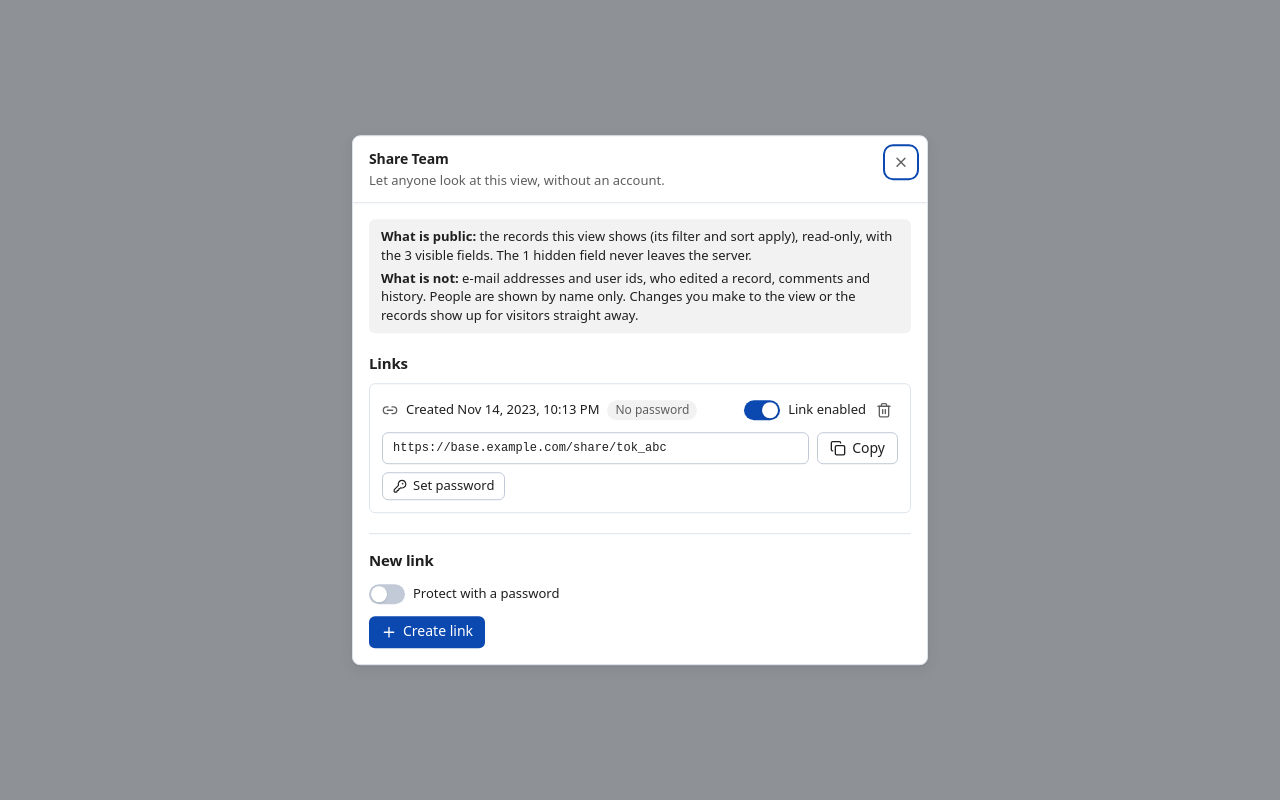
Test: a read-only view link › sets, changes and removes a password
Click the button "Set password" at (444, 486), box [382, 472, 506, 500]
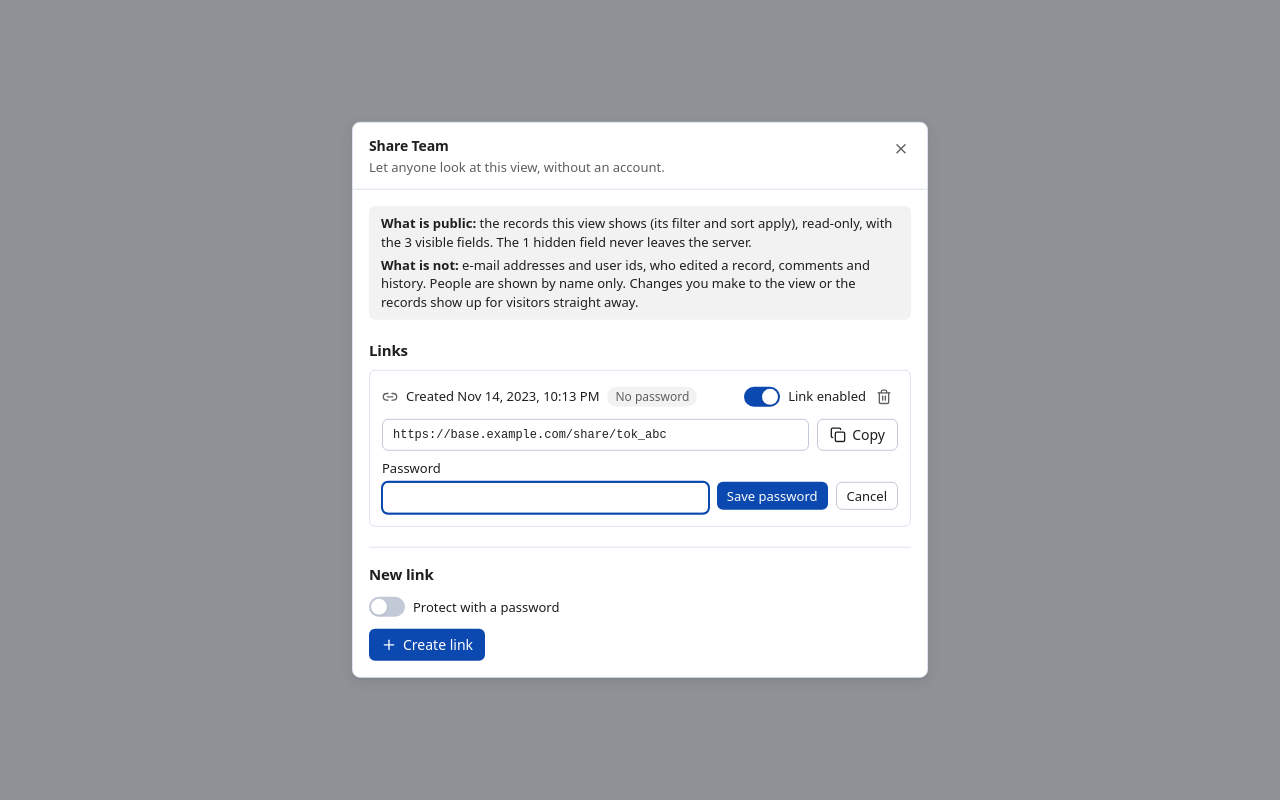
Type "hunter22" into the field labelled "Password" at (545, 498), box [382, 482, 709, 514]
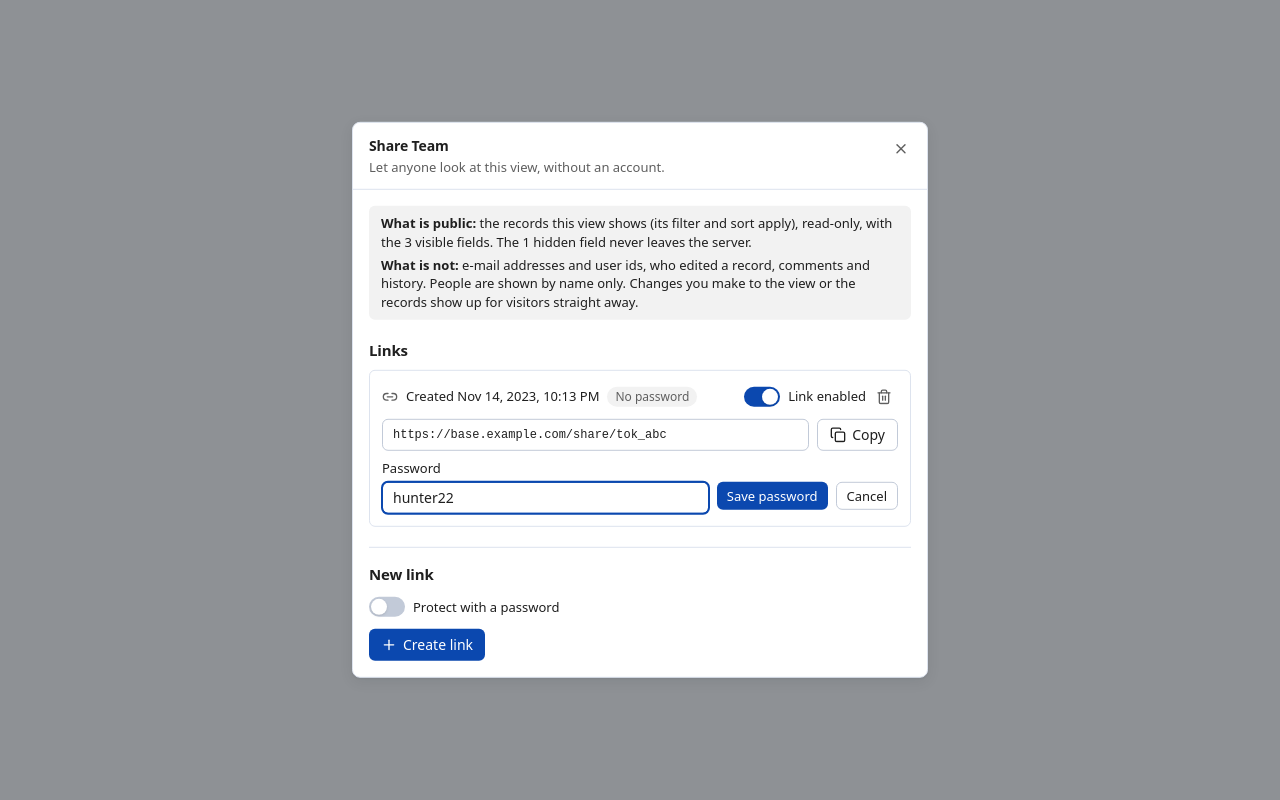
Click the button "Save password" at (772, 496), box [717, 482, 828, 510]
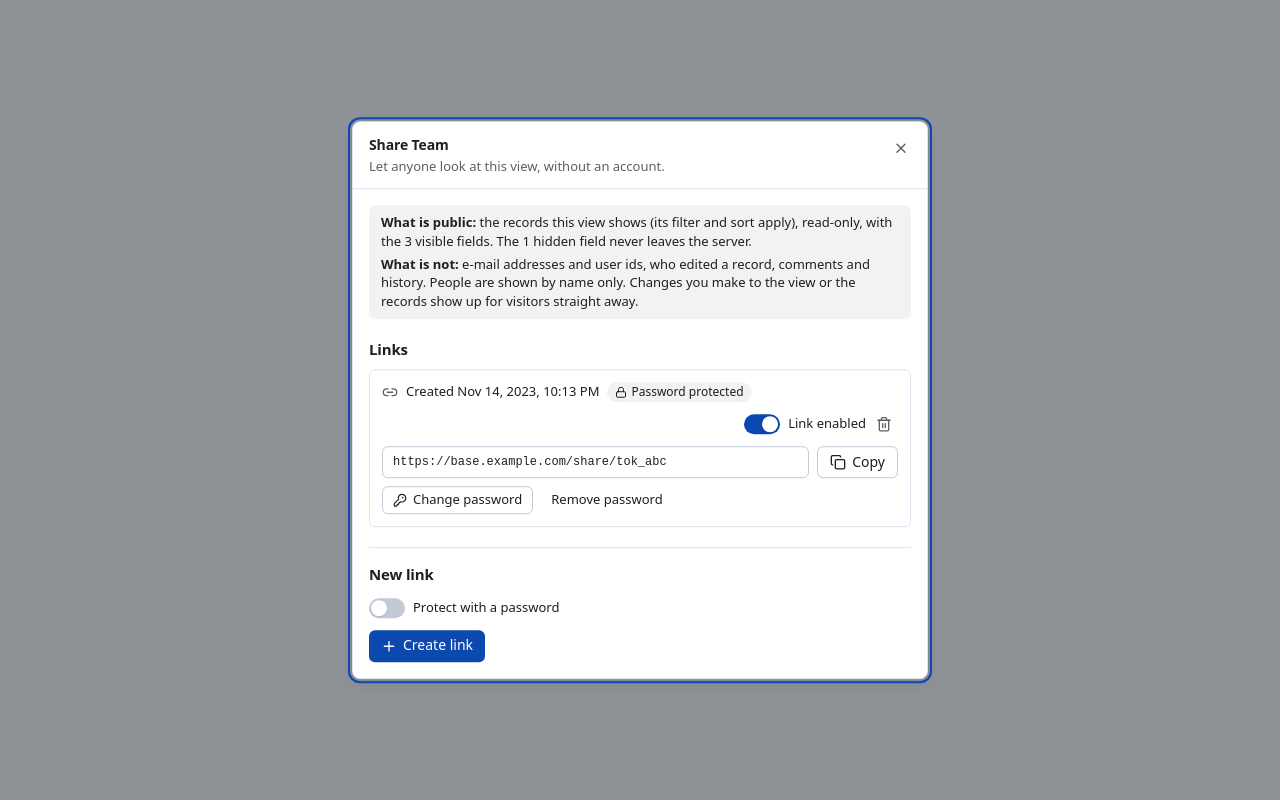
Click the button "Remove password" at (607, 500), box [541, 486, 673, 514]
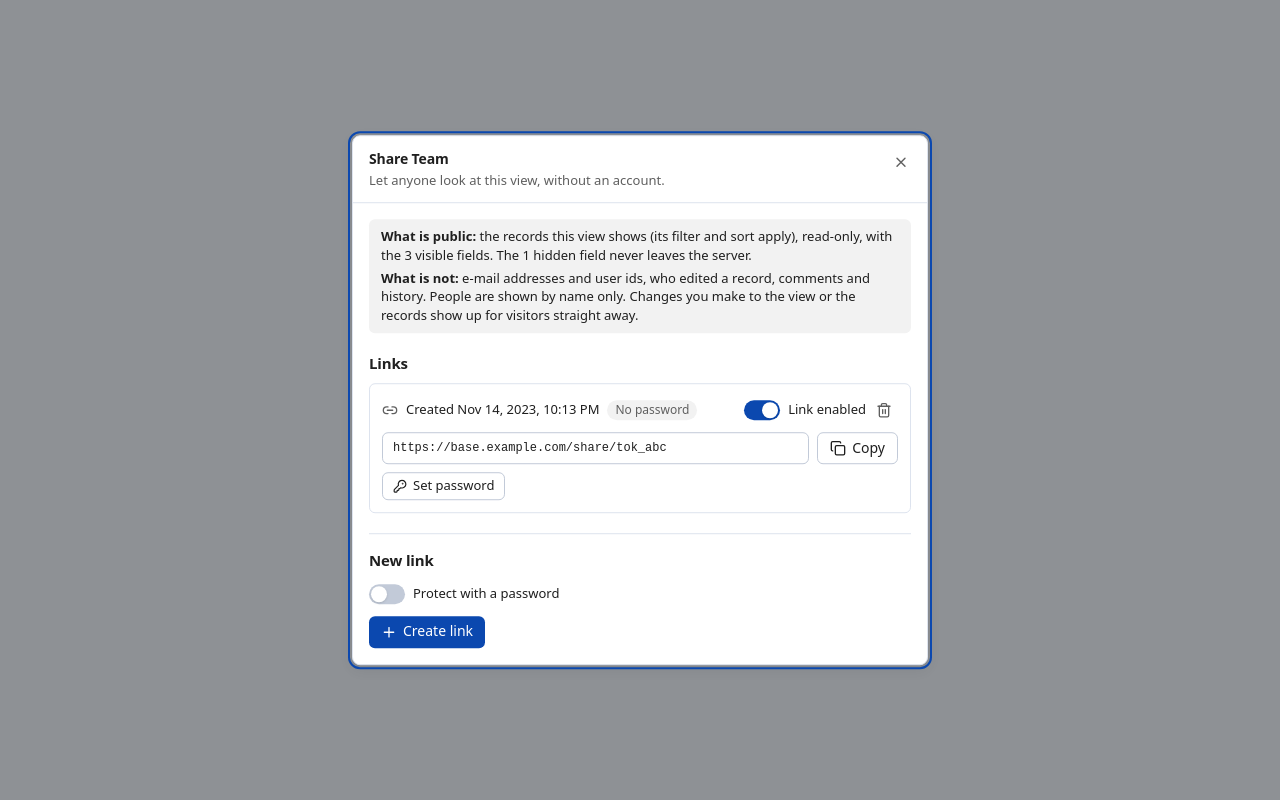
Expected: the button "Set password" is shown, [382, 472, 506, 500]
